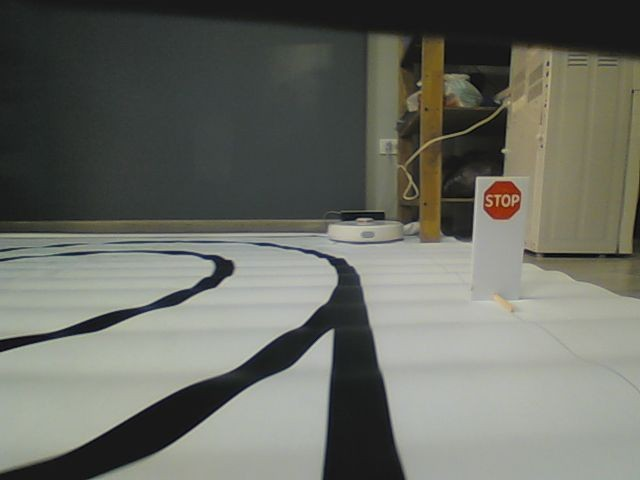Stop: (480, 181, 521, 221)
